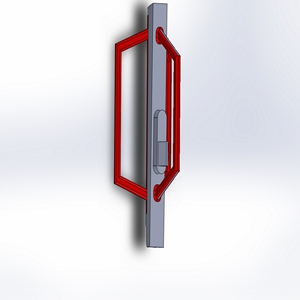submarine: (96, 1, 199, 266)
